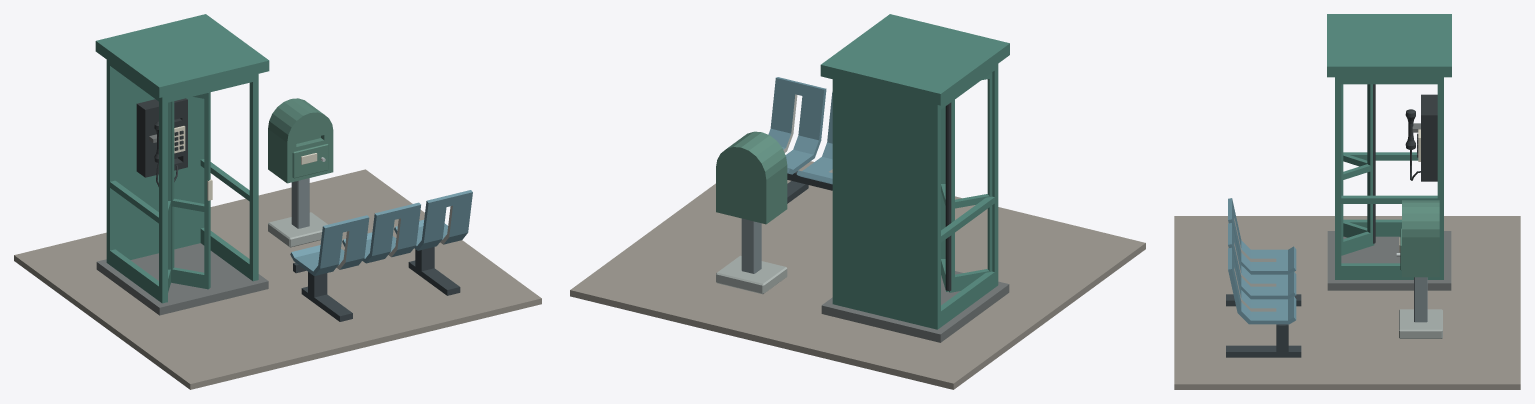
3 views of the same model, side by side, from view 1: azimuth 30°, elevation 25°; view 2: azimuth 150°, elevation 25°; view 3: azimuth 270°, elevation 25° (orthographic). The views are drawn at different scales.
Parts seen in each view (by area): view 1: SCENE_ONLY__DisplayFloor, booth__WholeOpenWindowAndRearWallShell, booth__WholeFlatOverhangingRoof, letterbox__postal-letterbox-01, booth__WholeGroundFootFloor, booth__WholeInwardFoldDoorLeafB, bench__RightContinuousSlottedSeatBack, bench__LeftContinuousSlottedSeatBack, bench__CentreContinuousSlottedSeatBack, booth__WholeWallPhoneBody, bench__RightIntegralLongFootPedestal, bench__LeftIntegralLongFootPedestal (+1 smaller); view 2: SCENE_ONLY__DisplayFloor, booth__WholeOpenWindowAndRearWallShell, booth__WholeFlatOverhangingRoof, letterbox__postal-letterbox-01, bench__LeftContinuousSlottedSeatBack, booth__WholeGroundFootFloor, booth__WholeInwardFoldDoorLeafA, booth__WholeFoldHinge1, bench__CentreContinuousSlottedSeatBack, booth__WholeInwardFoldDoorLeafB; view 3: SCENE_ONLY__DisplayFloor, booth__WholeFlatOverhangingRoof, booth__WholeOpenWindowAndRearWallShell, letterbox__postal-letterbox-01, booth__WholeGroundFootFloor, booth__WholeInwardFoldDoorLeafB, bench__LeftContinuousSlottedSeatBack, bench__RightContinuousSlottedSeatBack, bench__CentreContinuousSlottedSeatBack, booth__WholeWallPhoneBody, bench__LeftIntegralLongFootPedestal, booth__WholeInwardFoldDoorLeafA (+2 smaller).
Boxes of the visible parts, box(x1,y1,x2,y2) form: SCENE_ONLY__DisplayFloor: box(14, 169, 541, 389); booth__WholeOpenWindowAndRearWallShell: box(106, 60, 258, 303); booth__WholeFlatOverhangingRoof: box(95, 14, 269, 97); letterbox__postal-letterbox-01: box(268, 98, 333, 247); booth__WholeGroundFootFloor: box(96, 243, 268, 315); booth__WholeInwardFoldDoorLeafB: box(171, 92, 210, 289); bench__RightContinuousSlottedSeatBack: box(290, 215, 369, 275); bench__LeftContinuousSlottedSeatBack: box(394, 190, 472, 250); bench__CentreContinuousSlottedSeatBack: box(342, 202, 420, 263); booth__WholeWallPhoneBody: box(136, 98, 187, 177); bench__RightIntegralLongFootPedestal: box(301, 272, 352, 321); bench__LeftIntegralLongFootPedestal: box(408, 247, 460, 295); SCENE_ONLY__DisplayFloor: box(570, 161, 1145, 389); booth__WholeOpenWindowAndRearWallShell: box(832, 64, 998, 329); booth__WholeFlatOverhangingRoof: box(820, 14, 1009, 105); letterbox__postal-letterbox-01: box(716, 131, 787, 294); bench__LeftContinuousSlottedSeatBack: box(768, 77, 826, 174); booth__WholeGroundFootFloor: box(821, 271, 1009, 342); booth__WholeInwardFoldDoorLeafA: box(949, 72, 992, 292); booth__WholeFoldHinge1: box(945, 102, 951, 290); bench__CentreContinuousSlottedSeatBack: box(796, 92, 832, 184); booth__WholeInwardFoldDoorLeafB: box(941, 106, 948, 291); SCENE_ONLY__DisplayFloor: box(1174, 216, 1520, 389); booth__WholeFlatOverhangingRoof: box(1327, 14, 1451, 77); booth__WholeOpenWindowAndRearWallShell: box(1335, 77, 1443, 279); letterbox__postal-letterbox-01: box(1396, 200, 1442, 338); booth__WholeGroundFootFloor: box(1327, 231, 1451, 290); booth__WholeInwardFoldDoorLeafB: box(1341, 84, 1374, 255); bench__LeftContinuousSlottedSeatBack: box(1228, 247, 1296, 324); bench__RightContinuousSlottedSeatBack: box(1228, 198, 1296, 274); bench__CentreContinuousSlottedSeatBack: box(1228, 223, 1296, 299); booth__WholeWallPhoneBody: box(1421, 94, 1437, 181); bench__LeftIntegralLongFootPedestal: box(1226, 324, 1301, 357); booth__WholeInwardFoldDoorLeafA: box(1343, 153, 1367, 237).
Size of the model in its own units: 3.8 by 2.42 by 3.3.
